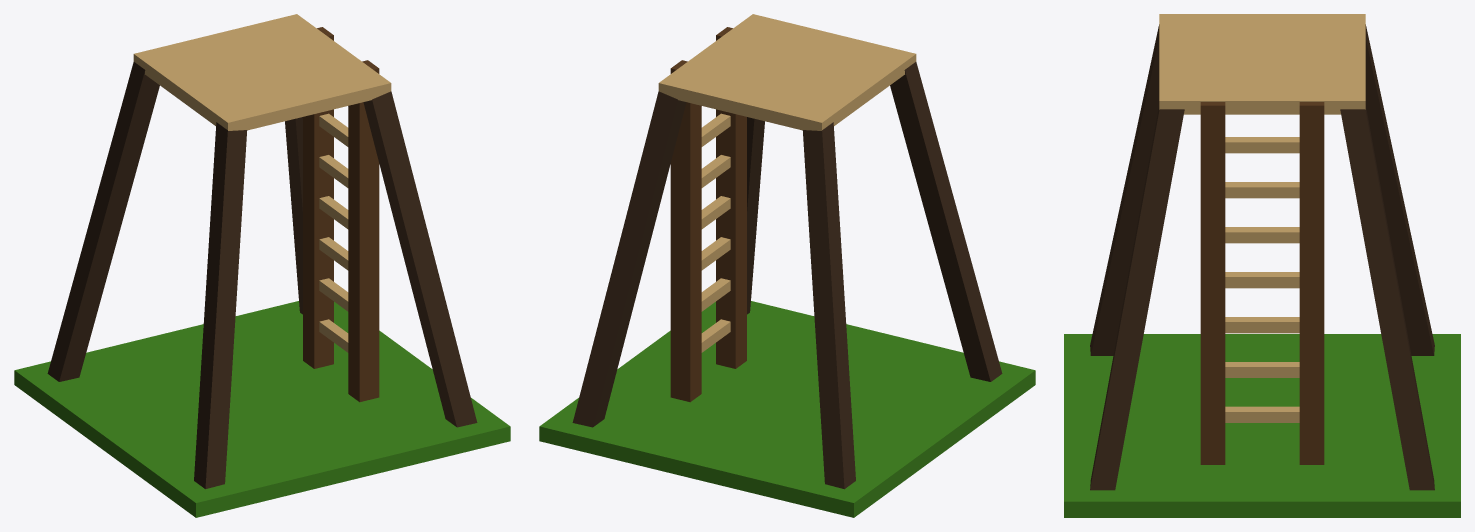
Rendered from lvl1.glb.
3 views of the same model, side by side, from view 1: azimuth 30°, elevation 25°; view 2: azimuth 150°, elevation 25°; view 3: azimuth 270°, elevation 25° (orthographic). The views are drawn at different scales.
Parts seen in each view (by area): view 1: Plane, Cube.004, Cube.001, Cube.005, Cube, Cube.006, Cube.007, Cube.003, Cube.012, Cube.010, Cube.011, Cube.002 (+2 smaller); view 2: Plane, Cube.004, Cube, Cube.003, Cube.001, Cube.007, Cube.006, Cube.005, Cube.012, Cube.010, Cube.011, Cube.002 (+2 smaller); view 3: Plane, Cube.004, Cube.003, Cube.005, Cube.006, Cube.007, Cube, Cube.001, Cube.009, Cube.002, Cube.008, Cube.010 (+3 smaller).
Boxes of the visible parts, <box> form: Plane: <box>14,301,510,517</box>; Cube.004: <box>133,14,391,130</box>; Cube.001: <box>194,122,247,489</box>; Cube.005: <box>363,91,477,427</box>; Cube: <box>47,62,159,381</box>; Cube.006: <box>348,60,379,402</box>; Cube.007: <box>303,27,333,368</box>; Cube.003: <box>285,117,302,314</box>; Cube.012: <box>319,278,348,311</box>; Cube.010: <box>319,237,348,270</box>; Cube.011: <box>319,196,348,229</box>; Cube.002: <box>319,155,348,187</box>; Plane: <box>539,301,1035,517</box>; Cube.004: <box>658,14,916,130</box>; Cube: <box>802,122,855,489</box>; Cube.003: <box>572,91,686,427</box>; Cube.001: <box>890,62,1002,381</box>; Cube.007: <box>670,60,701,402</box>; Cube.006: <box>716,27,746,368</box>; Cube.005: <box>747,117,764,314</box>; Cube.012: <box>701,278,730,311</box>; Cube.010: <box>701,237,730,270</box>; Cube.011: <box>701,196,730,229</box>; Cube.002: <box>701,155,730,187</box>; Plane: <box>1064,334,1460,517</box>; Cube.004: <box>1159,14,1365,114</box>; Cube.003: <box>1340,105,1434,490</box>; Cube.005: <box>1090,105,1184,490</box>; Cube.006: <box>1200,102,1225,464</box>; Cube.007: <box>1299,102,1324,464</box>; Cube: <box>1365,24,1434,355</box>; Cube.001: <box>1090,24,1159,355</box>; Cube.009: <box>1225,137,1299,153</box>; Cube.002: <box>1225,227,1299,243</box>; Cube.008: <box>1225,406,1299,422</box>; Cube.010: <box>1225,317,1299,333</box>.
Size of the model in its own units: 4 by 4.19 by 4.
